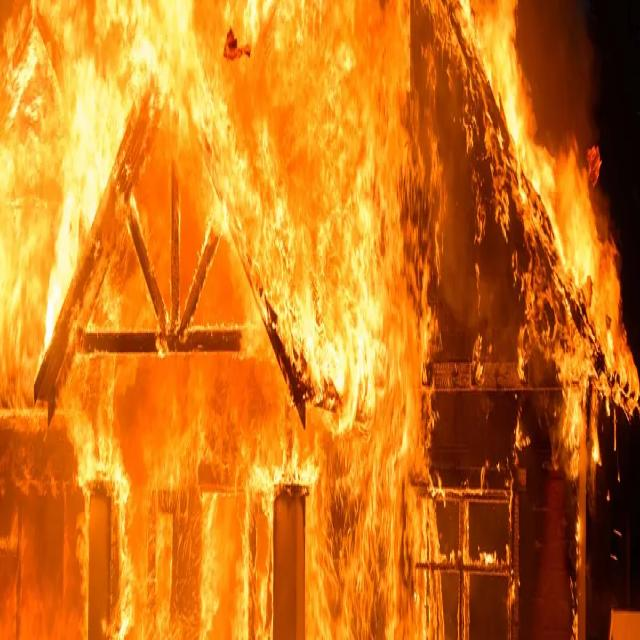fire: (5, 0, 431, 634), (428, 89, 634, 638), (473, 9, 639, 461)
